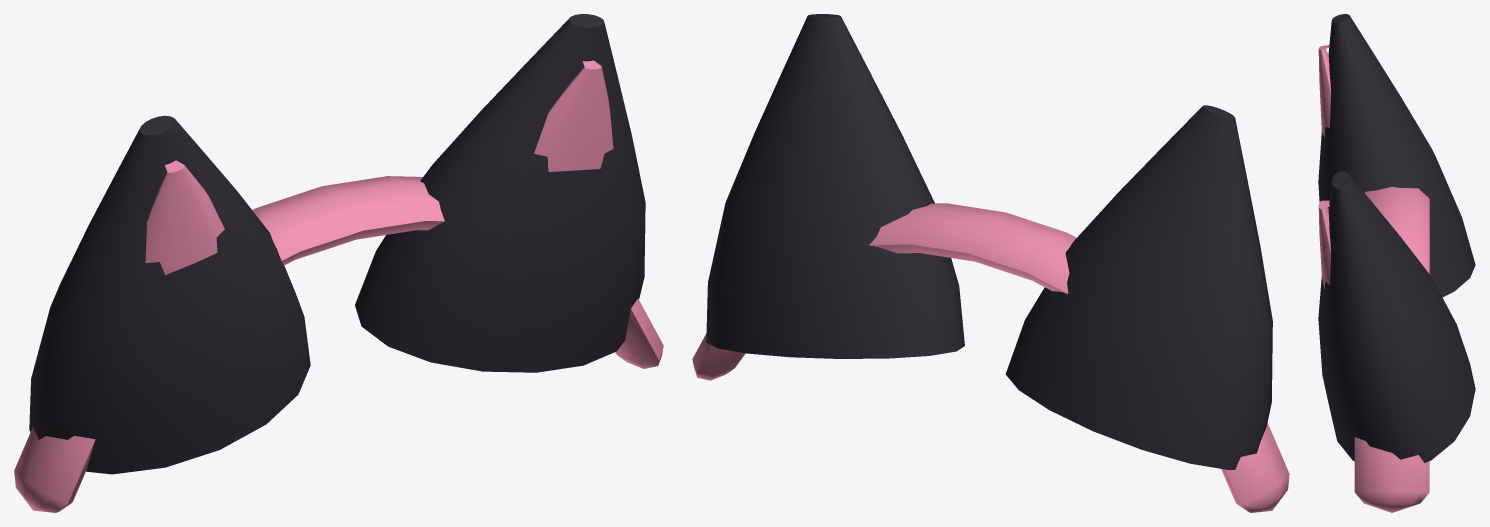
Rendered from hat_cat_ears.glb.
3 renders of one model, left to right at view 1: azimuth 30°, elevation 25°; view 2: azimuth 150°, elevation 25°; view 3: azimuth 270°, elevation 25°, orthographic. The views are drawn at different scales.
Visible parts, largest first — view 1: Hat; view 2: Hat; view 3: Hat.
Part boxes in pixels (x1,y1,x2,y2): Hat: (14, 14, 663, 512); Hat: (692, 14, 1289, 512); Hat: (1318, 14, 1475, 512).
Size of the model in its own units: 0.6577 by 0.3913 by 0.1849.
